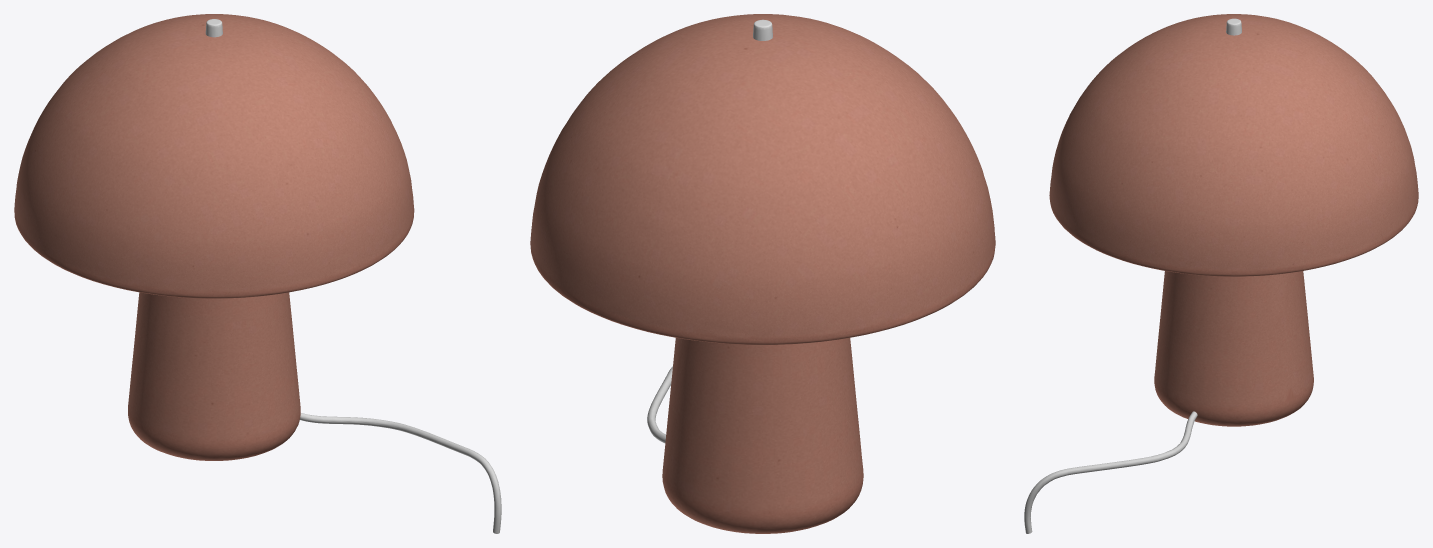
Rendered from lamp.obj.
3 views of the same model, side by side, from view 1: azimuth 30°, elevation 25°; view 2: azimuth 150°, elevation 25°; view 3: azimuth 270°, elevation 25° (orthographic). The views are drawn at different scales.
Visible parts, largest first — view 1: LAMP; view 2: LAMP; view 3: LAMP.
Part boxes in pixels (x1,y1,x2,y2): LAMP: (14, 14, 501, 533); LAMP: (530, 14, 995, 533); LAMP: (1024, 14, 1418, 533).
Bounding box in the file's own units: 0.3757 × 0.4844 × 0.3983.
